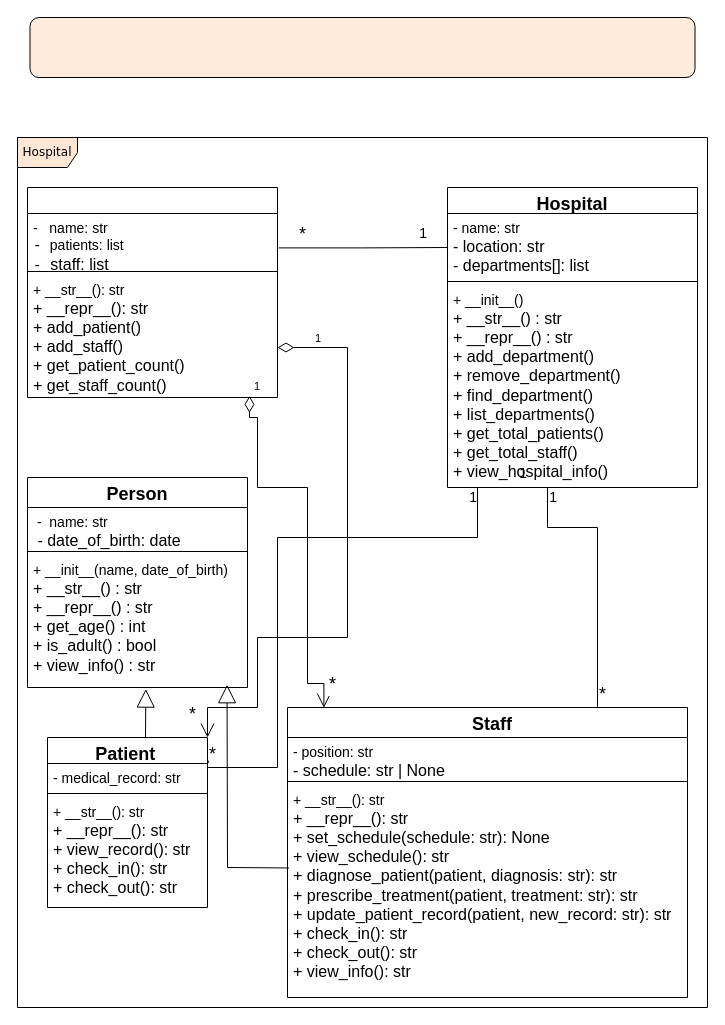
Some shapes in this 725 by 1025 pixel diagram are drawn without their labels. Here are the shapes that lost their labels. From the top down, the box of each, then its label:
(29, 16, 695, 78): Hospial System UML
(26, 186, 278, 398): Department
